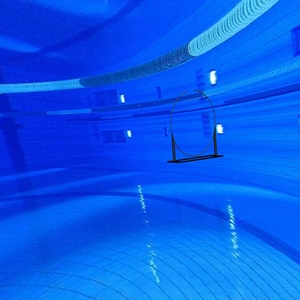circle: (167, 87, 225, 168)
